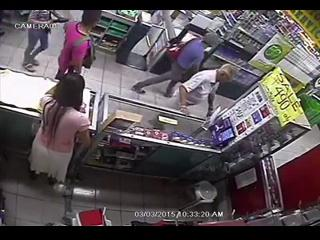Normal: (28, 73, 93, 192), (132, 34, 220, 97), (176, 63, 235, 126), (55, 10, 101, 80)
